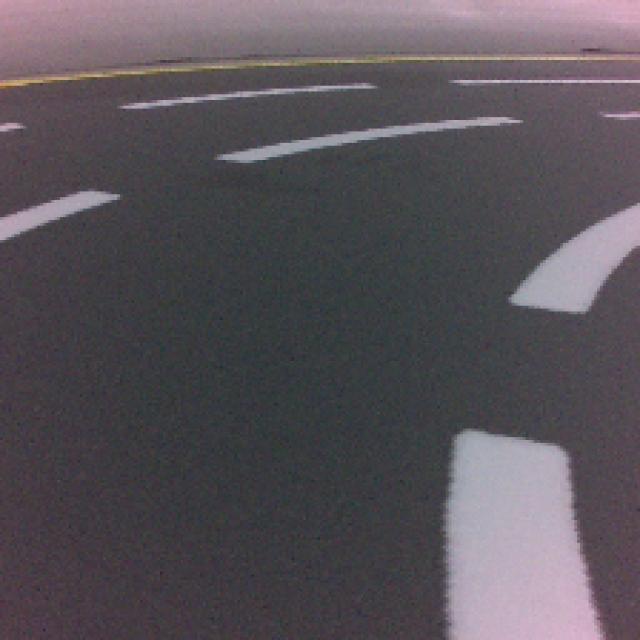Road: (4, 257, 511, 638)
